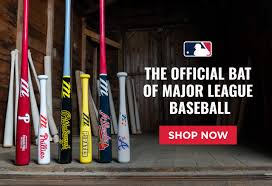baseball bat: (97, 1, 113, 163), (15, 1, 30, 165), (36, 74, 51, 165), (59, 75, 73, 165), (79, 73, 92, 165), (116, 71, 129, 163)
